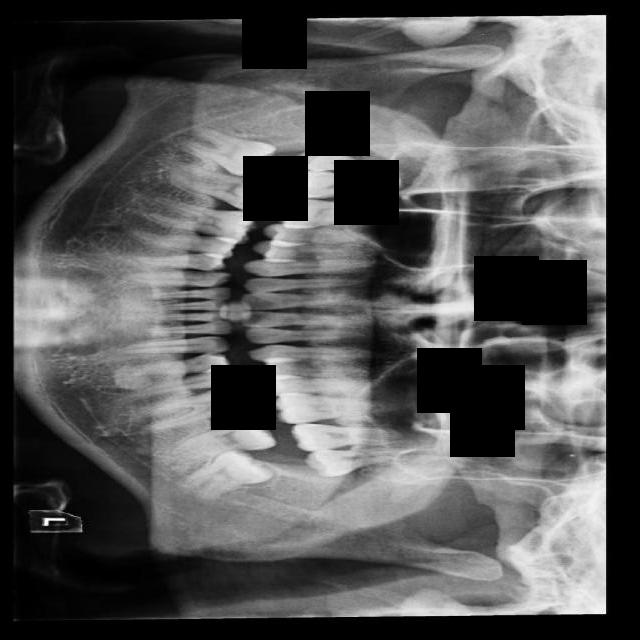3M ESPE Implant: (290, 143, 399, 179)
73: (45, 602, 49, 606)
BioHorizons Implant: (288, 421, 409, 458)
BioLife Implant: (301, 446, 418, 477)
Biomet 3i Implant: (171, 437, 277, 511)
Blue Sky Bio Implant: (162, 411, 280, 467)
Caries: (286, 166, 401, 200)
Implant: (159, 159, 276, 217)
Keystone Dental Implant: (170, 118, 278, 185)
